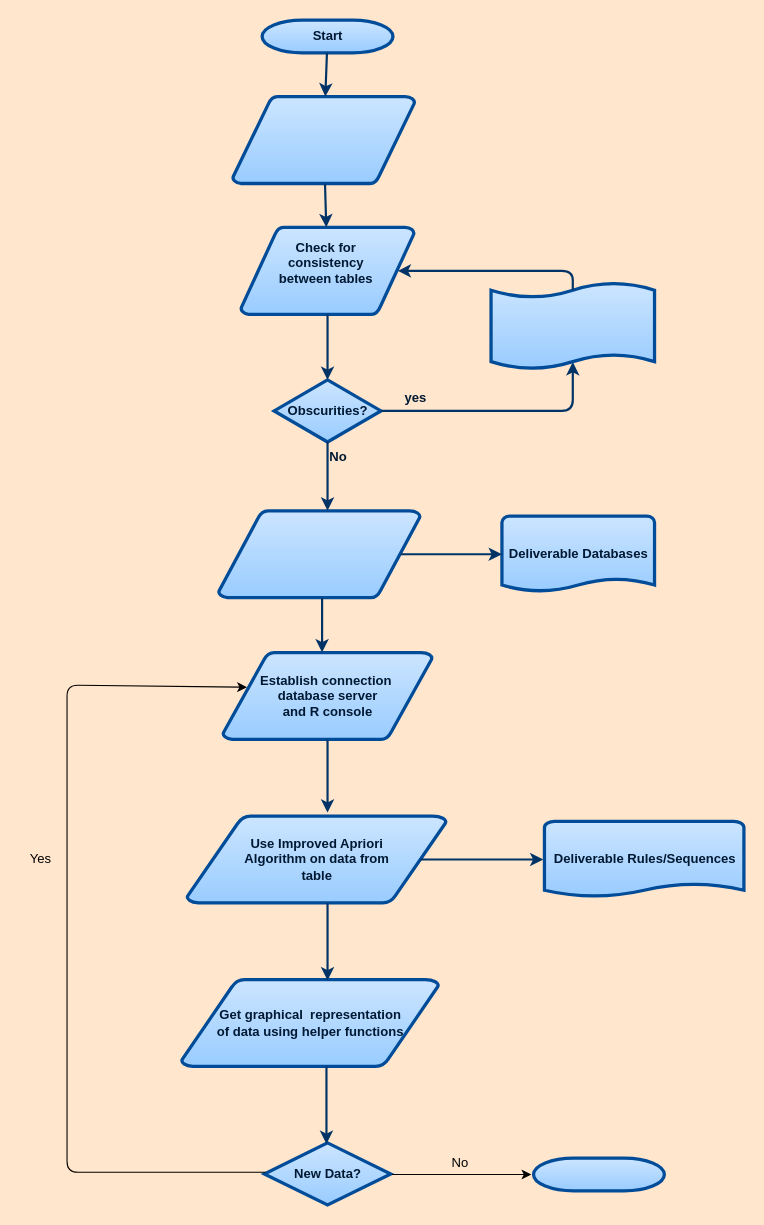
Some shapes in this 764 by 1225 pixel diagram are drawn without their labels. The shapes that lost their labels are listed below. From the top down, each one's centre as x and y in pixels, then its label:
At (x=323, y=139): "Create SQL database".
At (x=572, y=325): "Create appropriate dependencies between databases".
At (x=318, y=553): "Populate databases with data using stored procedures or real data".
At (x=598, y=1174): "End".
